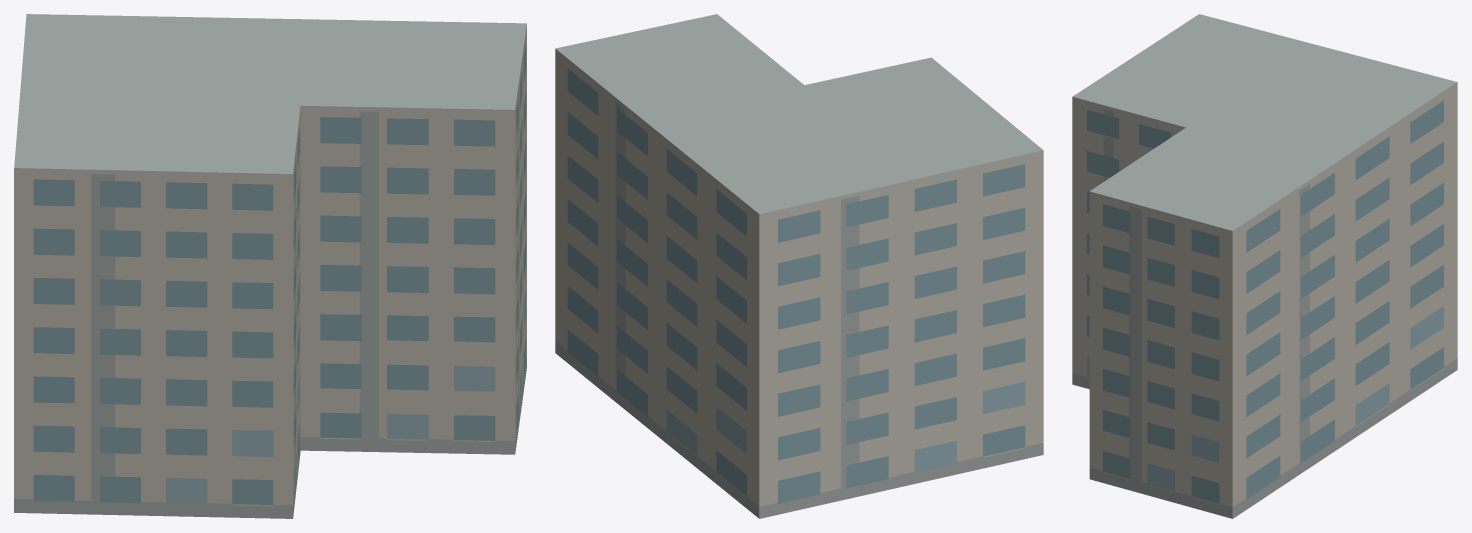
File: survey-upis-32883292.glb
3 renders of one model, left to right at view 1: azimuth 30°, elevation 25°; view 2: azimuth 150°, elevation 25°; view 3: azimuth 270°, elevation 25°, orthographic. The views are drawn at different scales.
Visible parts, largest first — view 1: survey-upis-32883292.tmp; view 2: survey-upis-32883292.tmp; view 3: survey-upis-32883292.tmp.
Part boxes in pixels (bbox=[...]): survey-upis-32883292.tmp: bbox=[14, 14, 526, 518]; survey-upis-32883292.tmp: bbox=[555, 14, 1043, 518]; survey-upis-32883292.tmp: bbox=[1072, 14, 1457, 518].
Bounding box in the file's own units: 30.73 × 19 × 23.05.
